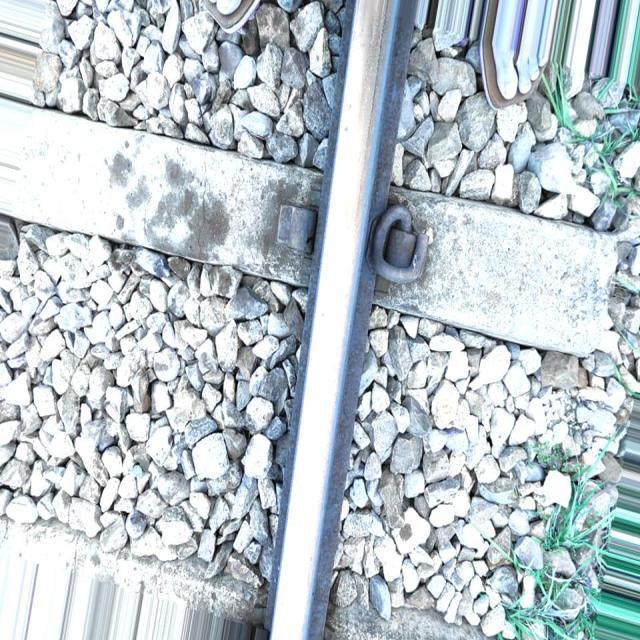Good Fasteners: (369, 205, 428, 284)
Missing Fastener: (257, 168, 320, 271)
